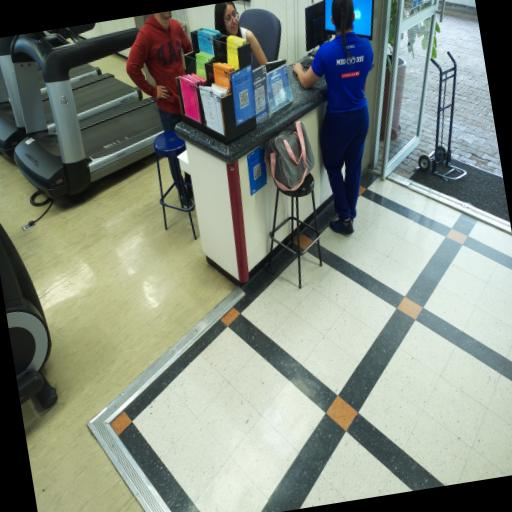person: (292, 0, 372, 234), (126, 11, 191, 131), (214, 1, 266, 65)
